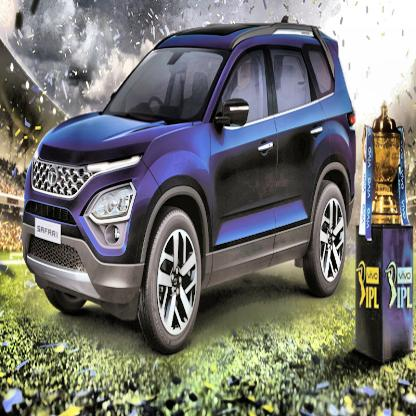IPL: (385, 261, 398, 309), (356, 261, 366, 307), (397, 287, 413, 308), (365, 286, 379, 309)
TATA Safari: (34, 219, 58, 250)
Vivo: (366, 269, 378, 281), (399, 269, 412, 279)
